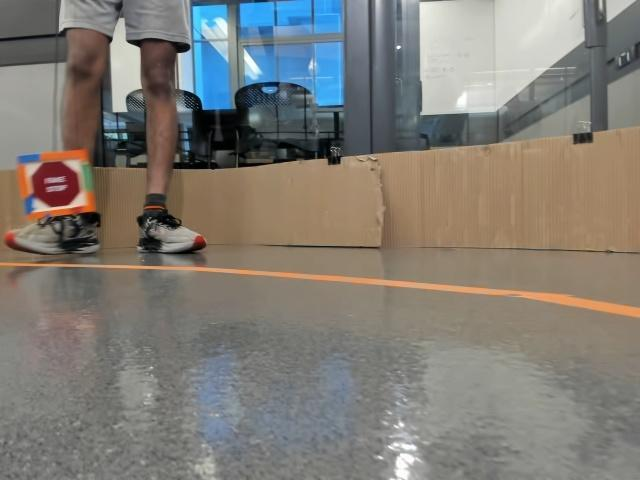Fake Stop: (29, 164, 75, 210)
